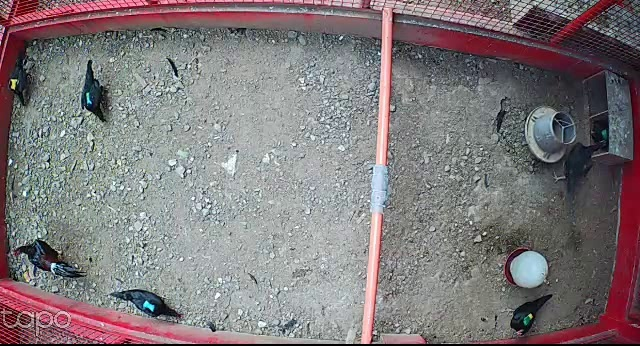Chicken: (552, 139, 610, 203), (107, 285, 183, 321), (76, 57, 111, 125), (508, 292, 554, 338)
Drinker: (502, 246, 551, 290)
Feeder: (525, 106, 577, 161)
Rooster: (12, 237, 85, 281)
Saddle_Color_Blue: (143, 300, 155, 312)
Saddle_Color_YellowGreen: (523, 311, 534, 327)
